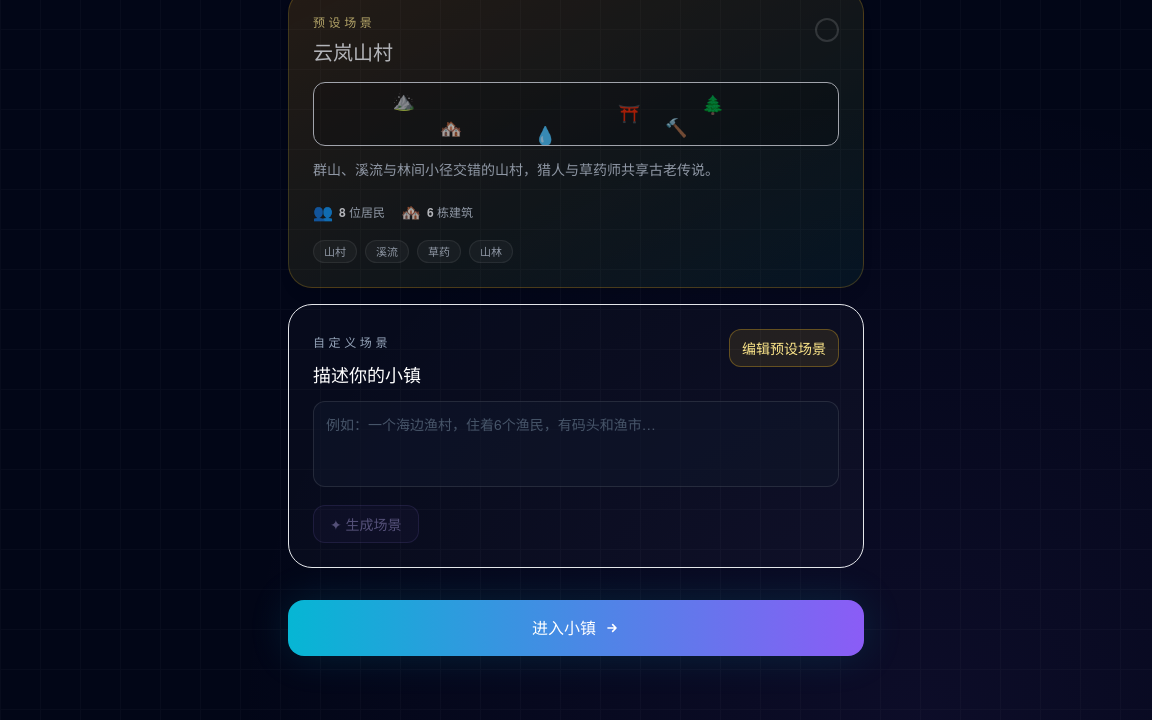
Test: ScenePicker › generate button is enabled after typing a description
The width and height of the screenshot is (1152, 720).
(page scrolled)
Type "一个测试小镇" into the text box with placeholder "例如：一个海边渔村，住着6个渔民，有码头和渔市…" at (576, 444), box [313,401,839,487]
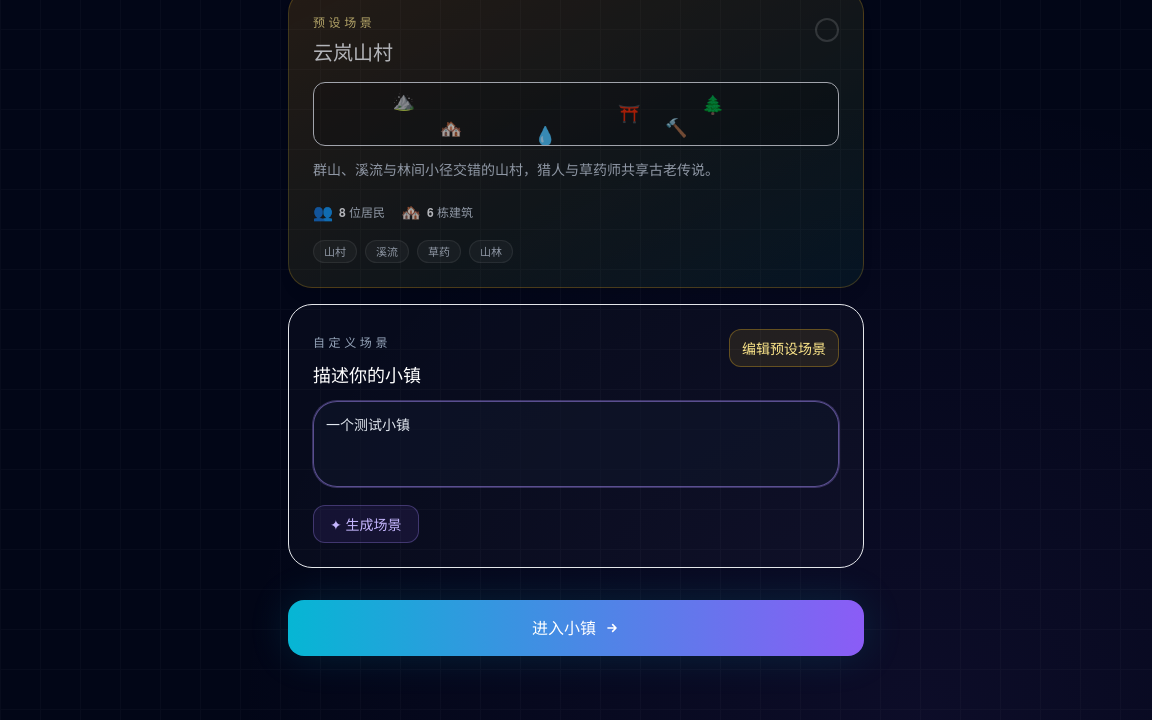
Now the button "✦ 生成场景" is enabled, box [313,505,419,543]
